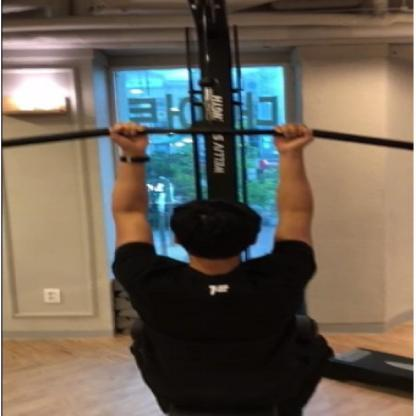Lat Pull Down: (3, 0, 416, 416)
